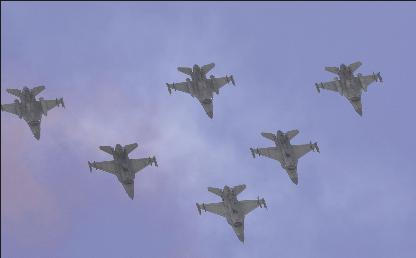F14: (195, 182, 267, 243), (88, 140, 158, 199), (250, 127, 320, 185), (166, 62, 236, 119), (314, 60, 382, 117), (1, 84, 65, 140)
